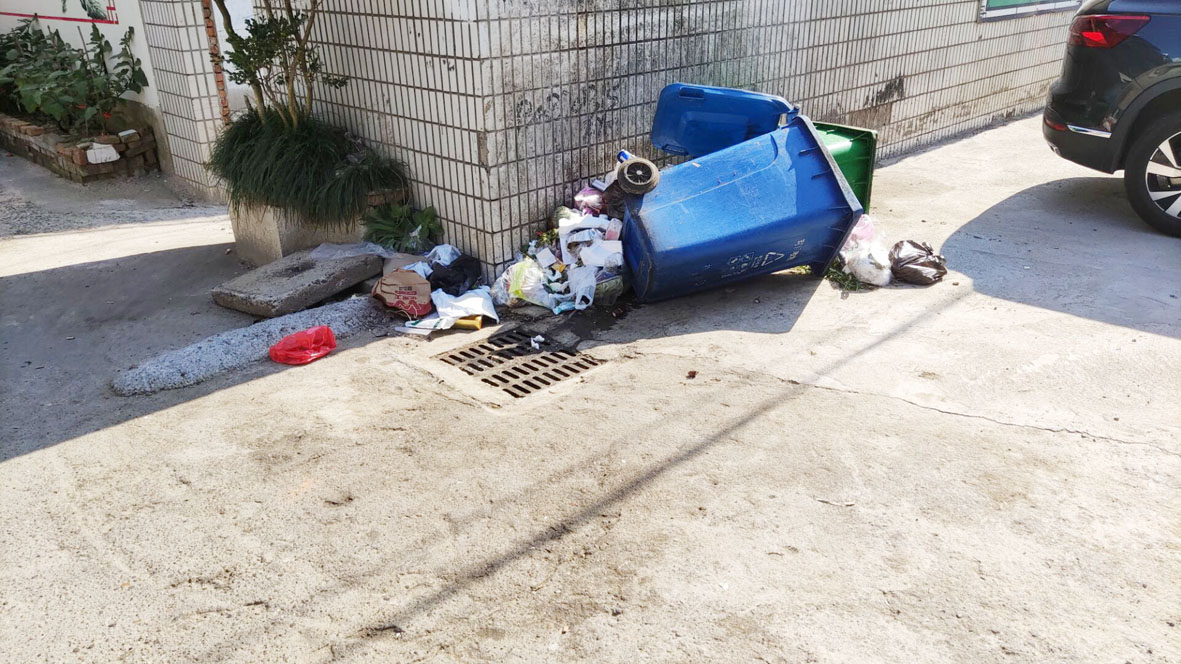garbage: (495, 76, 961, 322), (365, 239, 501, 336), (241, 320, 372, 375)
